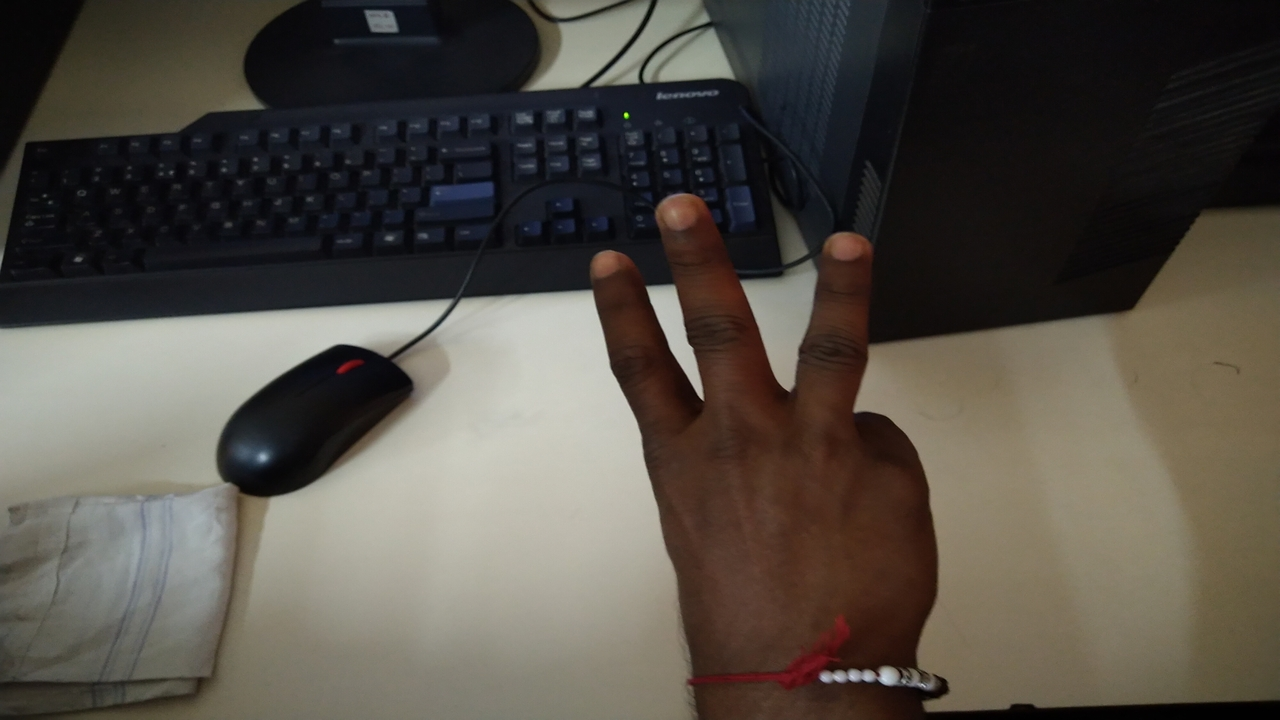fingertip: (818, 226, 880, 280), (650, 192, 714, 244), (580, 240, 640, 292)
